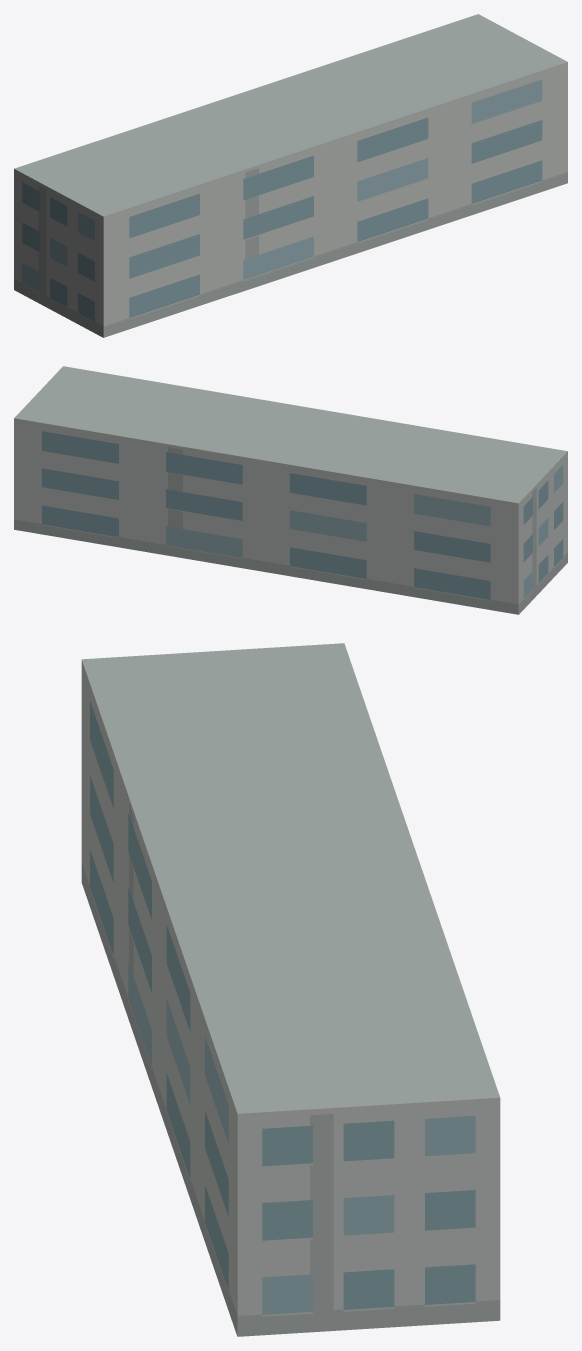
The model's file is residential-14bcfd1a-97cd-459b-b7c8-bd97df728e06.glb.
The picture shows the model from 3 angles, top to bottom: view 1: azimuth 30°, elevation 25°; view 2: azimuth 150°, elevation 25°; view 3: azimuth 270°, elevation 25°; orthographic projection. The views are drawn at different scales.
Parts seen in each view (by area): view 1: residential-14bcfd1a-97cd-459b-b7c8-bd97df728e06.tmp; view 2: residential-14bcfd1a-97cd-459b-b7c8-bd97df728e06.tmp; view 3: residential-14bcfd1a-97cd-459b-b7c8-bd97df728e06.tmp.
Boxes of the visible parts, x1,y1,x2,y2 form: residential-14bcfd1a-97cd-459b-b7c8-bd97df728e06.tmp: [14, 14, 567, 337]; residential-14bcfd1a-97cd-459b-b7c8-bd97df728e06.tmp: [14, 366, 567, 614]; residential-14bcfd1a-97cd-459b-b7c8-bd97df728e06.tmp: [81, 643, 500, 1336].
Size of the model in its own units: 41.44 by 9.15 by 15.59.
